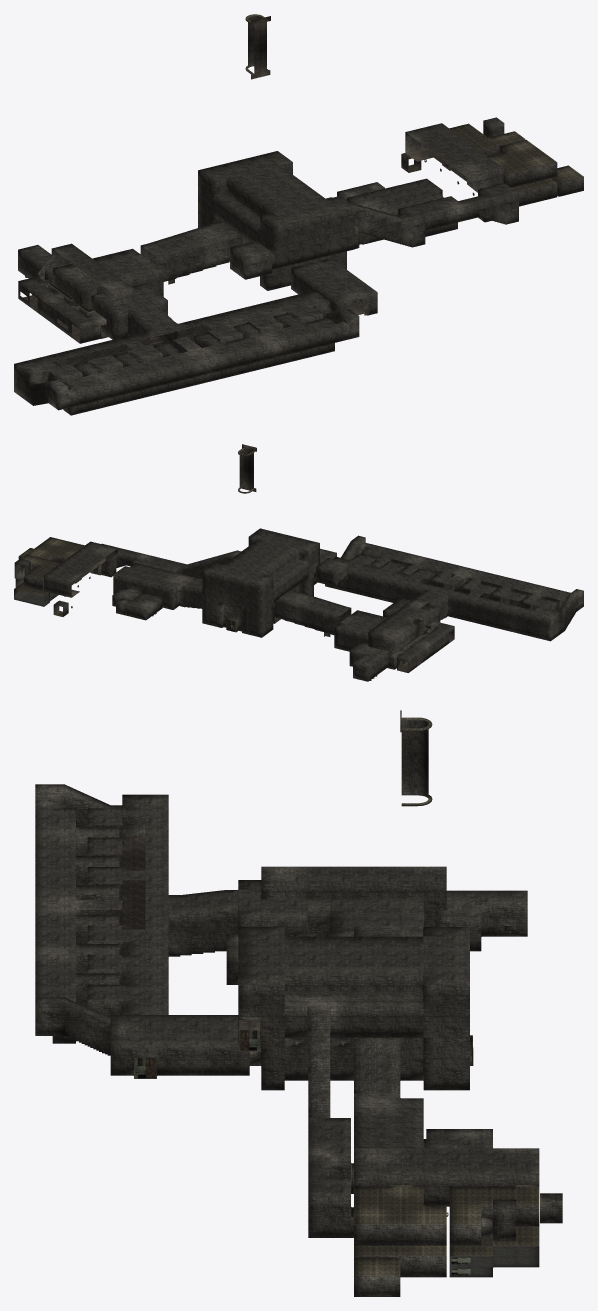
3 views of the same model, one above another, from view 1: azimuth 30°, elevation 25°; view 2: azimuth 150°, elevation 25°; view 3: azimuth 270°, elevation 25° (orthographic). The views are drawn at different scales.
Visible parts, largest first — view 1: Chunk-3_Mesh-1, Chunk-23_Mesh-1, Chunk-2_Mesh-0, Chunk-8_Mesh-1, Chunk-15_Mesh-1, Chunk-0_Mesh-0, Chunk-9_Mesh-0, Chunk-22_Mesh-1, Chunk-13_Mesh-1, Chunk-17_Mesh-0, Chunk-21_Mesh-0, Chunk-25_Mesh-1 (+10 smaller); view 2: Chunk-3_Mesh-1, Chunk-23_Mesh-1, Chunk-2_Mesh-0, Chunk-8_Mesh-1, Chunk-13_Mesh-1, Chunk-0_Mesh-0, Chunk-37_Mesh-0, Chunk-9_Mesh-0, Chunk-12_Mesh-1, Chunk-1_Mesh-0, Chunk-15_Mesh-1, Chunk-25_Mesh-1 (+10 smaller); view 3: Chunk-3_Mesh-1, Chunk-23_Mesh-1, Chunk-22_Mesh-1, Chunk-9_Mesh-0, Chunk-8_Mesh-1, Chunk-2_Mesh-0, Chunk-15_Mesh-1, Chunk-1_Mesh-0, Chunk-13_Mesh-1, Chunk-21_Mesh-0, Chunk-37_Mesh-0, Chunk-20_Mesh-1 (+18 smaller).
Part boxes in pixels (x1=…): Chunk-3_Mesh-1: x1=14, y1=290, x2=359, y2=415; Chunk-23_Mesh-1: x1=198, y1=156, x2=358, y2=290; Chunk-2_Mesh-0: x1=53, y1=248, x2=167, y2=339; Chunk-8_Mesh-1: x1=18, y1=243, x2=133, y2=343; Chunk-15_Mesh-1: x1=398, y1=183, x2=518, y2=247; Chunk-0_Mesh-0: x1=140, y1=221, x2=242, y2=281; Chunk-9_Mesh-0: x1=405, y1=123, x2=503, y2=192; Chunk-22_Mesh-1: x1=291, y1=258, x2=377, y2=315; Chunk-13_Mesh-1: x1=347, y1=178, x2=443, y2=244; Chunk-17_Mesh-0: x1=326, y1=197, x2=411, y2=246; Chunk-21_Mesh-0: x1=488, y1=139, x2=556, y2=174; Chunk-25_Mesh-1: x1=230, y1=241, x2=271, y2=279; Chunk-3_Mesh-1: x1=325, y1=535, x2=583, y2=641; Chunk-23_Mesh-1: x1=202, y1=528, x2=319, y2=637; Chunk-2_Mesh-0: x1=334, y1=598, x2=440, y2=653; Chunk-8_Mesh-1: x1=368, y1=598, x2=454, y2=672; Chunk-13_Mesh-1: x1=113, y1=563, x2=195, y2=609; Chunk-0_Mesh-0: x1=274, y1=589, x2=351, y2=634; Chunk-37_Mesh-0: x1=202, y1=566, x2=267, y2=611; Chunk-9_Mesh-0: x1=44, y1=541, x2=117, y2=597; Chunk-12_Mesh-1: x1=112, y1=588, x2=162, y2=620; Chunk-1_Mesh-0: x1=349, y1=642, x2=390, y2=681; Chunk-15_Mesh-1: x1=90, y1=543, x2=181, y2=577; Chunk-25_Mesh-1: x1=316, y1=558, x2=347, y2=586; Chunk-3_Mesh-1: x1=35, y1=784, x2=238, y2=1055; Chunk-23_Mesh-1: x1=237, y1=927, x2=469, y2=1090; Chunk-22_Mesh-1: x1=110, y1=1015, x2=261, y2=1075; Chunk-9_Mesh-0: x1=354, y1=1148, x2=539, y2=1206; Chunk-8_Mesh-1: x1=261, y1=866, x2=446, y2=926; Chunk-2_Mesh-0: x1=238, y1=880, x2=423, y2=936; Chunk-15_Mesh-1: x1=308, y1=1117, x2=353, y2=1237; Chunk-1_Mesh-0: x1=435, y1=890, x2=527, y2=951; Chunk-13_Mesh-1: x1=354, y1=1093, x2=423, y2=1148; Chunk-21_Mesh-0: x1=354, y1=1186, x2=446, y2=1224; Chunk-37_Mesh-0: x1=446, y1=927, x2=469, y2=1037; Chunk-20_Mesh-1: x1=449, y1=1199, x2=539, y2=1245.
Bounding box in the file's own units: 18900 × 6954 × 9100.
19 materials, 19 textured.
